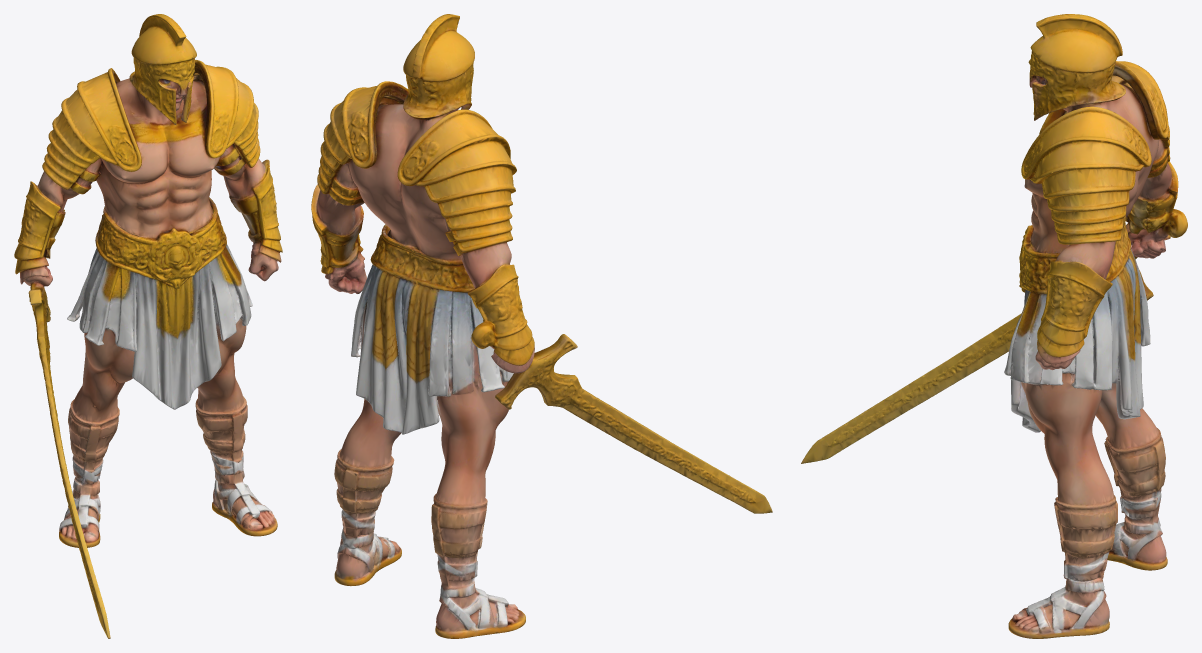
Rendered from armour_hd.glb.
The picture shows the model from 3 angles, left to right: view 1: azimuth 30°, elevation 25°; view 2: azimuth 150°, elevation 25°; view 3: azimuth 270°, elevation 25°; orthographic projection. The views are drawn at different scales.
Parts seen in each view (by area): view 1: armour; view 2: armour; view 3: armour.
Boxes of the visible parts, bbox=[...] form: armour: bbox=[14, 14, 282, 638]; armour: bbox=[311, 14, 772, 638]; armour: bbox=[801, 14, 1187, 638].
Bounding box in the file's own units: 1.08 × 1.84 × 1.12.
Materials: 1 (1 with a texture image).
